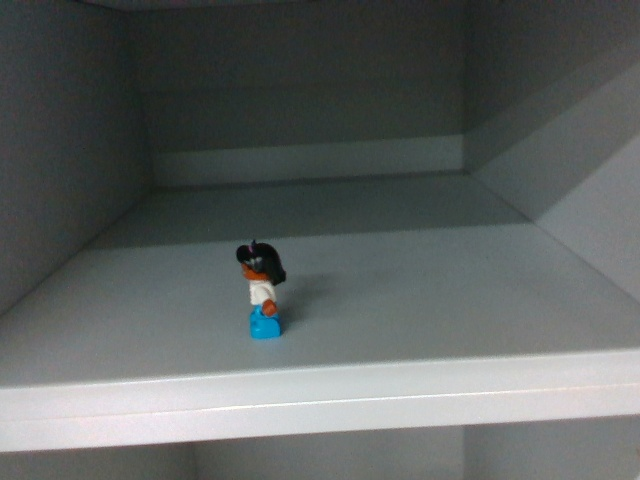people: (233, 240, 291, 342)
